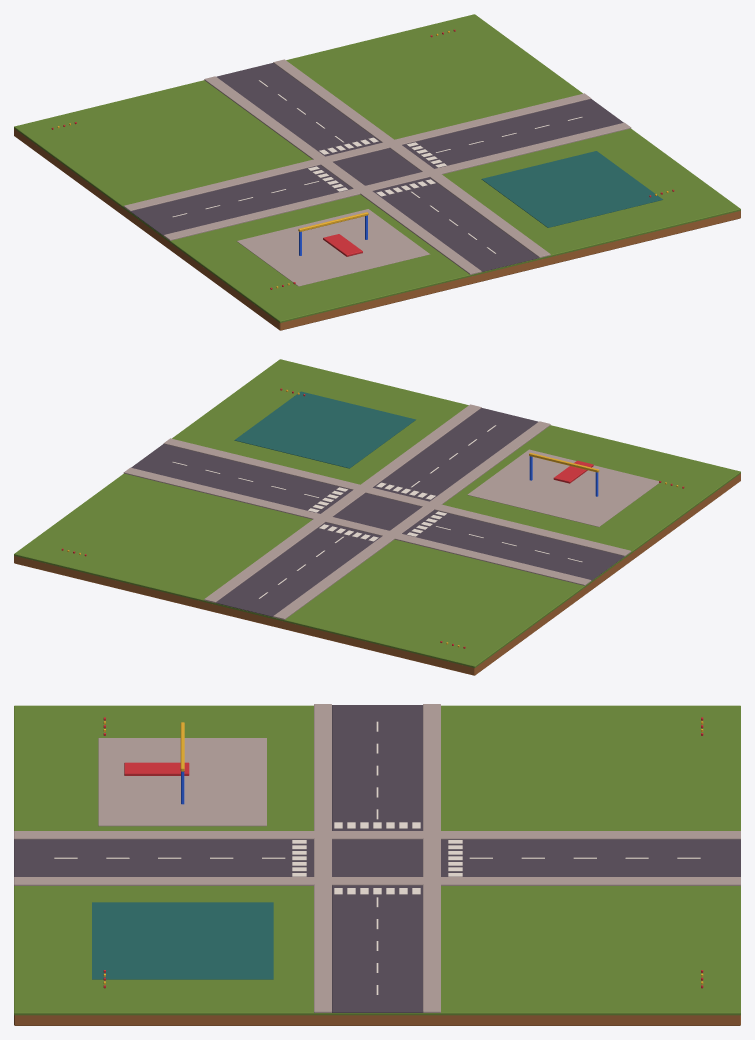
Rendered from D-SCHOOL.base.glb.
3 views of the same model, one above another, from view 1: azimuth 30°, elevation 25°; view 2: azimuth 150°, elevation 25°; view 3: azimuth 270°, elevation 25° (orthographic). The views are drawn at different scales.
Parts seen in each view (by area): view 1: pal_grass, pal_asphalt, pal_sidewalk, pal_backpackTeal, pal_woodWarm, pal_picketWhite, pal_survivorRed; view 2: pal_grass, pal_asphalt, pal_sidewalk, pal_backpackTeal, pal_woodWarm, pal_picketWhite; view 3: pal_grass, pal_asphalt, pal_sidewalk, pal_backpackTeal, pal_woodWarm, pal_picketWhite, pal_survivorRed.
Boxes of the visible parts, x1=… form: pal_grass: x1=14, y1=14, x2=740, y2=322; pal_asphalt: x1=130, y1=63, x2=623, y2=271; pal_sidewalk: x1=123, y1=59, x2=631, y2=286; pal_backpackTeal: x1=481, y1=151, x2=662, y2=227; pal_woodWarm: x1=14, y1=128, x2=740, y2=330; pal_picketWhite: x1=172, y1=80, x2=582, y2=253; pal_survivorRed: x1=51, y1=29, x2=674, y2=289; pal_grass: x1=14, y1=359, x2=740, y2=667; pal_asphalt: x1=131, y1=408, x2=624, y2=616; pal_sidewalk: x1=123, y1=404, x2=658, y2=619; pal_backpackTeal: x1=234, y1=391, x2=415, y2=468; pal_woodWarm: x1=14, y1=473, x2=740, y2=675; pal_picketWhite: x1=172, y1=425, x2=582, y2=598; pal_grass: x1=14, y1=705, x2=740, y2=1015; pal_asphalt: x1=14, y1=705, x2=740, y2=1012; pal_sidewalk: x1=14, y1=704, x2=740, y2=1012; pal_backpackTeal: x1=92, y1=902, x2=273, y2=979; pal_woodWarm: x1=14, y1=1015, x2=740, y2=1025; pal_picketWhite: x1=54, y1=721, x2=700, y2=994; pal_survivorRed: x1=103, y1=717, x2=703, y2=988.
Bounding box in the file's own units: 56 × 4.3 × 56.
